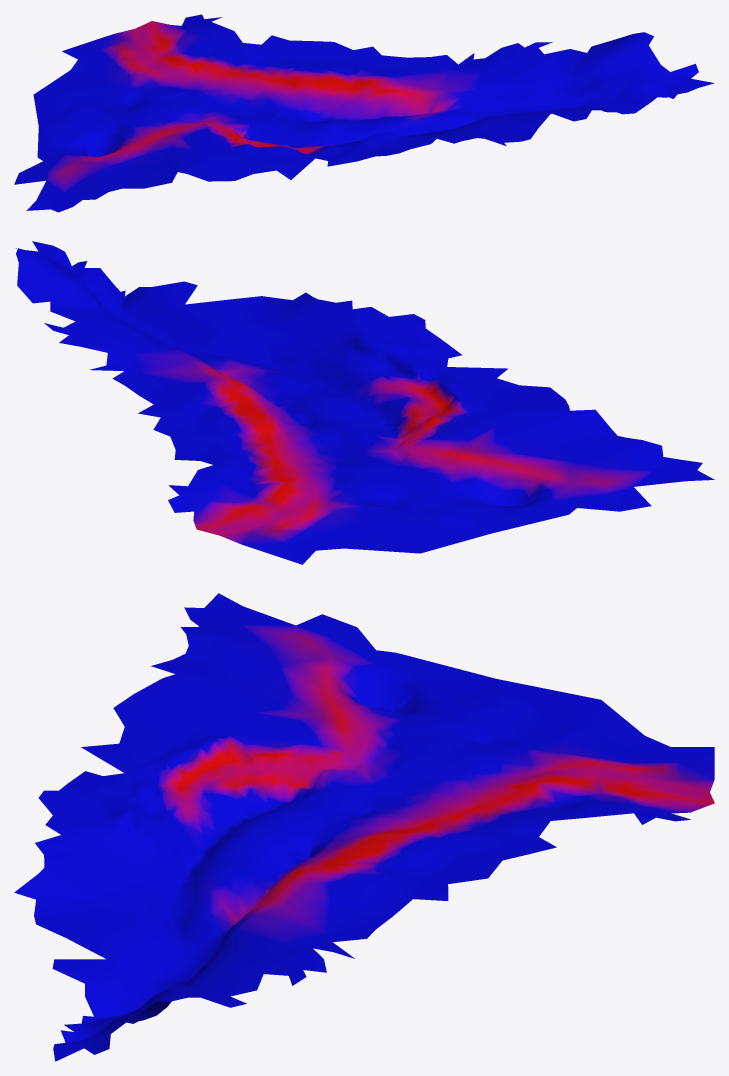
Rendered from Terrain_Optimized.fbx.
The picture shows the model from 3 angles, top to bottom: view 1: azimuth 30°, elevation 25°; view 2: azimuth 150°, elevation 25°; view 3: azimuth 270°, elevation 25°; orthographic projection. The views are drawn at different scales.
Parts seen in each view (by area): view 1: EXPORT_GOOGLE_SAT_WM.092; view 2: EXPORT_GOOGLE_SAT_WM.092; view 3: EXPORT_GOOGLE_SAT_WM.092.
Part boxes in pixels (box(x1,y1,x2,y2)): EXPORT_GOOGLE_SAT_WM.092: box(14, 14, 714, 212); EXPORT_GOOGLE_SAT_WM.092: box(16, 241, 714, 564); EXPORT_GOOGLE_SAT_WM.092: box(14, 593, 714, 1061).
Bounding box in the file's own units: 133517 × 11441 × 81493.
